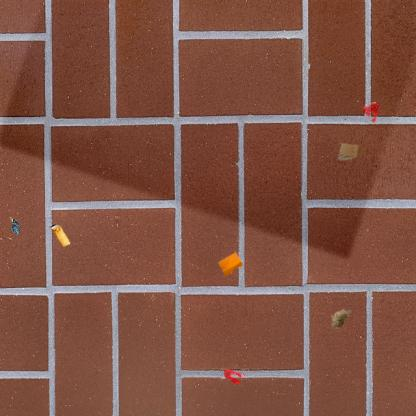dirty: (216, 250, 245, 279), (336, 142, 365, 162), (48, 223, 70, 249), (330, 307, 354, 330), (8, 215, 22, 236)
liquid: (223, 368, 246, 385), (361, 101, 379, 122)
